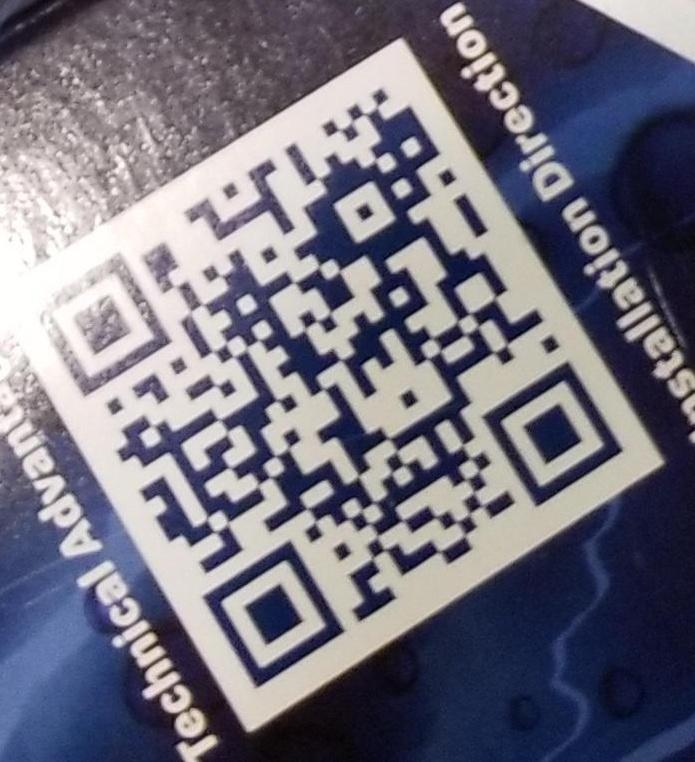qrcode: (37, 85, 624, 689)
